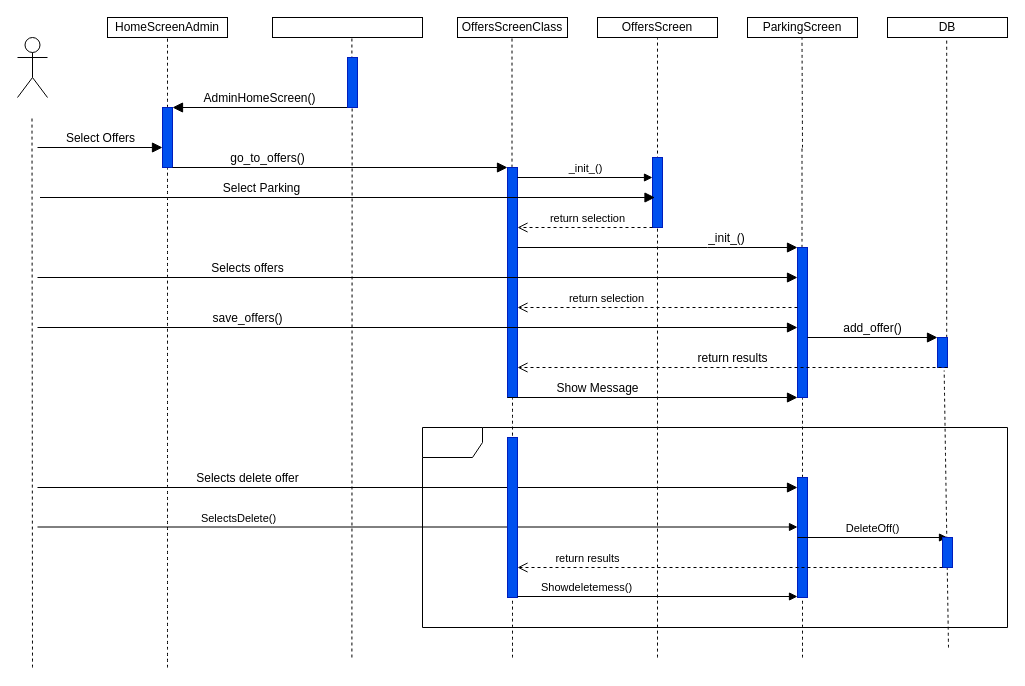
This 1025x686 diagram has some shape labels left out. Each missing label, with the centre of its shape:
"Actor" goes at pixel 32 67.
"Admin AppClass" goes at pixel 347 27.
"alt" goes at pixel 715 527.
